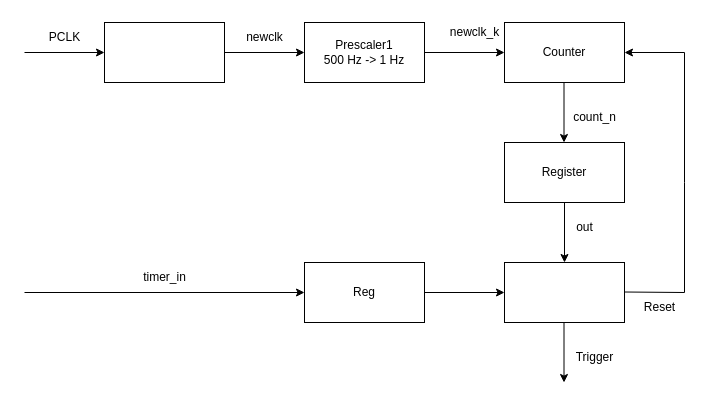
This 710x408 diagram has some shape labels left out. Here are the shapes that lost their labels. From the top down, the box of each, then its label:
(104, 22, 224, 82): Prescaler 30MHz -> 500 Hz
(504, 262, 624, 322): Comparator
